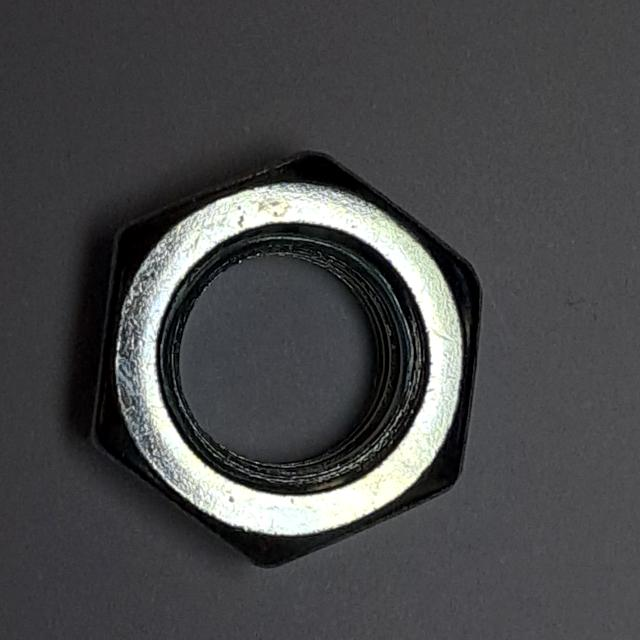Excellent: (79, 137, 493, 583)
